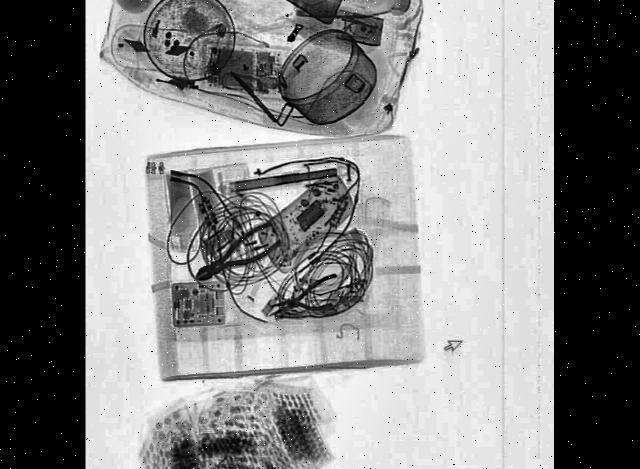Pliers: (191, 214, 282, 295), (268, 270, 341, 323)
